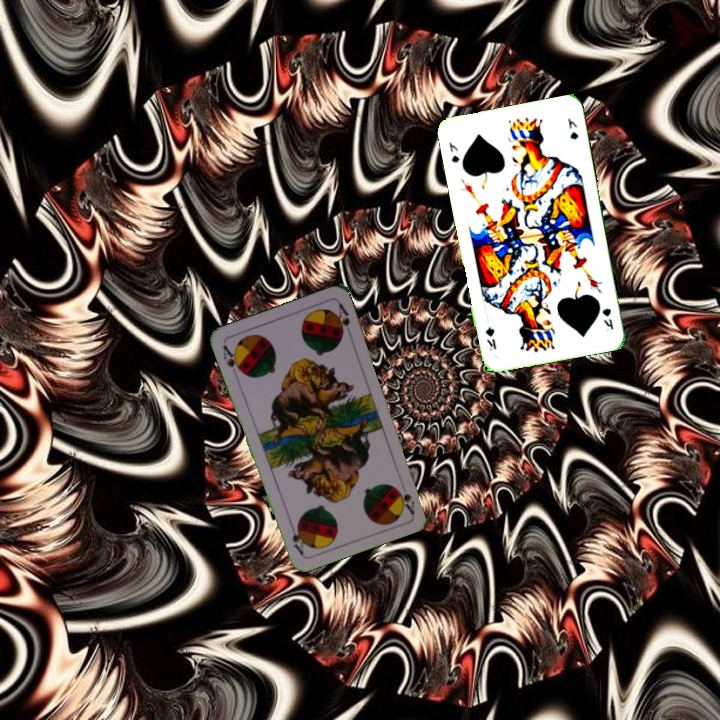GK: (598, 304, 616, 333), (445, 138, 462, 165)
SA: (219, 341, 245, 380), (395, 486, 417, 517)
